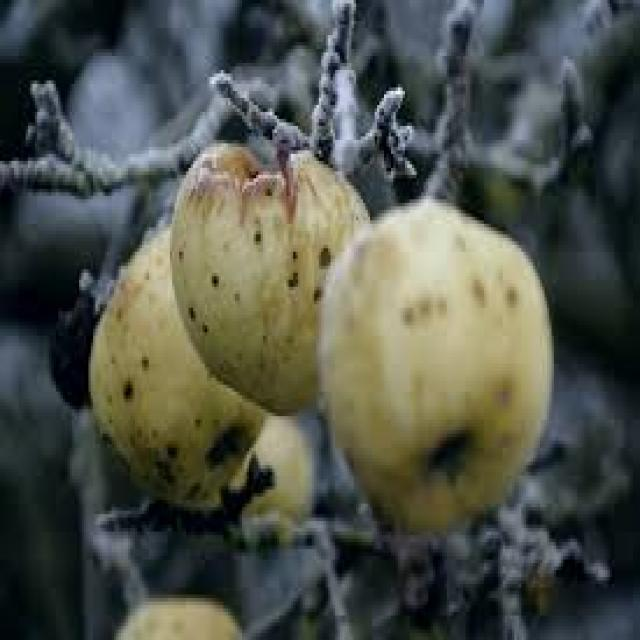organic waste: (316, 192, 552, 535), (168, 136, 368, 413), (84, 216, 265, 504), (223, 395, 312, 528), (112, 584, 240, 637)
